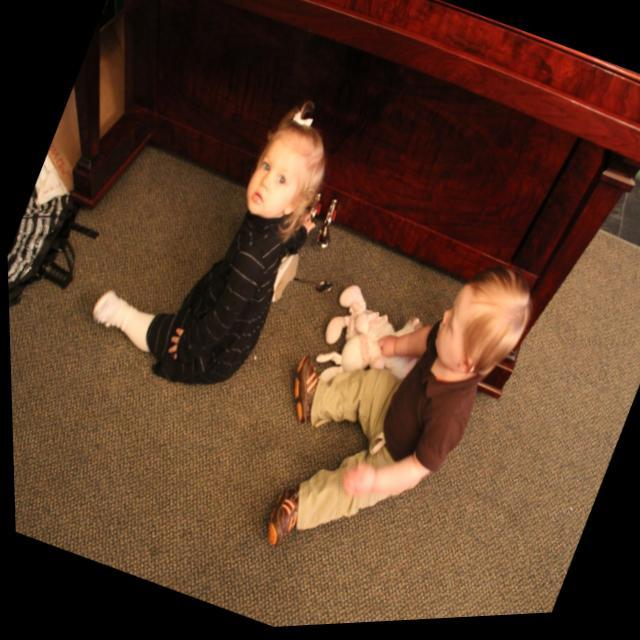Nonhelmet: (426, 252, 541, 380), (236, 97, 342, 235)
